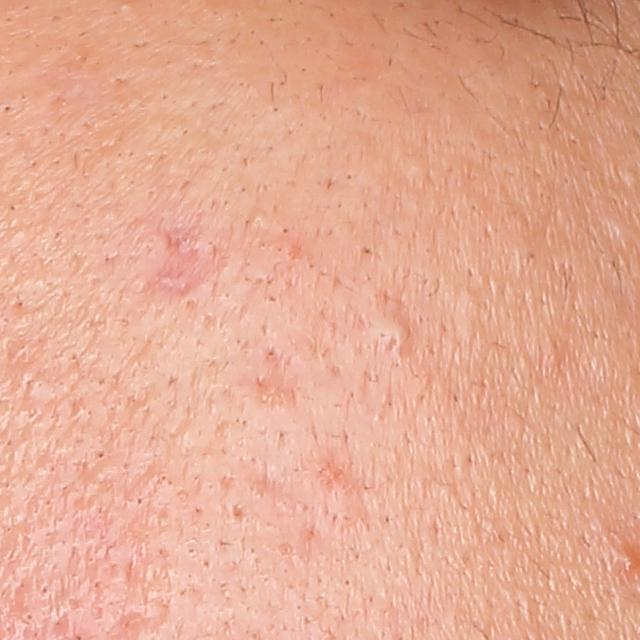atrophic_scar: (147, 226, 238, 311), (247, 467, 322, 517), (241, 367, 292, 410)
comedo: (367, 305, 419, 357)
